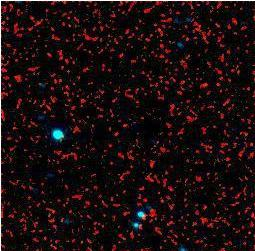star: (210, 139, 240, 169)
